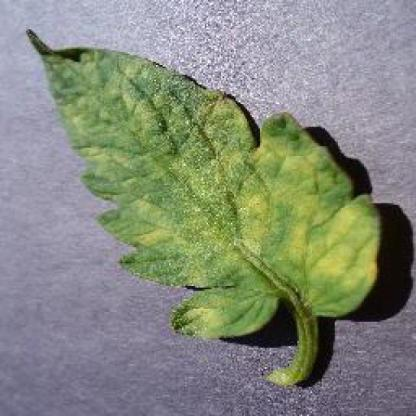Tomato_Leaf_Mold: (114, 26, 382, 340)
